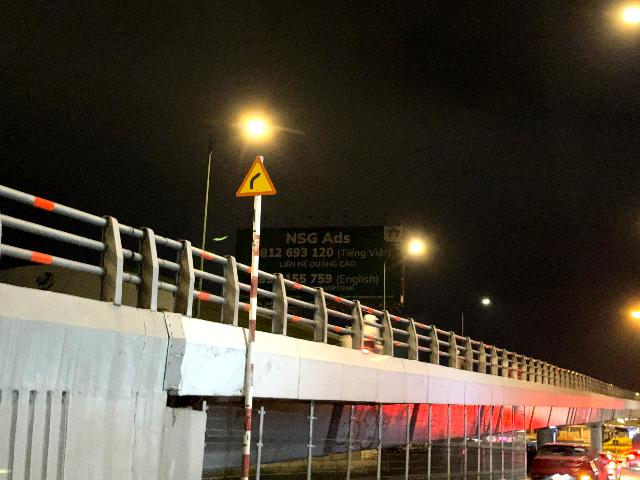cho-ngoat-nguy-hiem-ben-phai: (235, 156, 277, 197)
